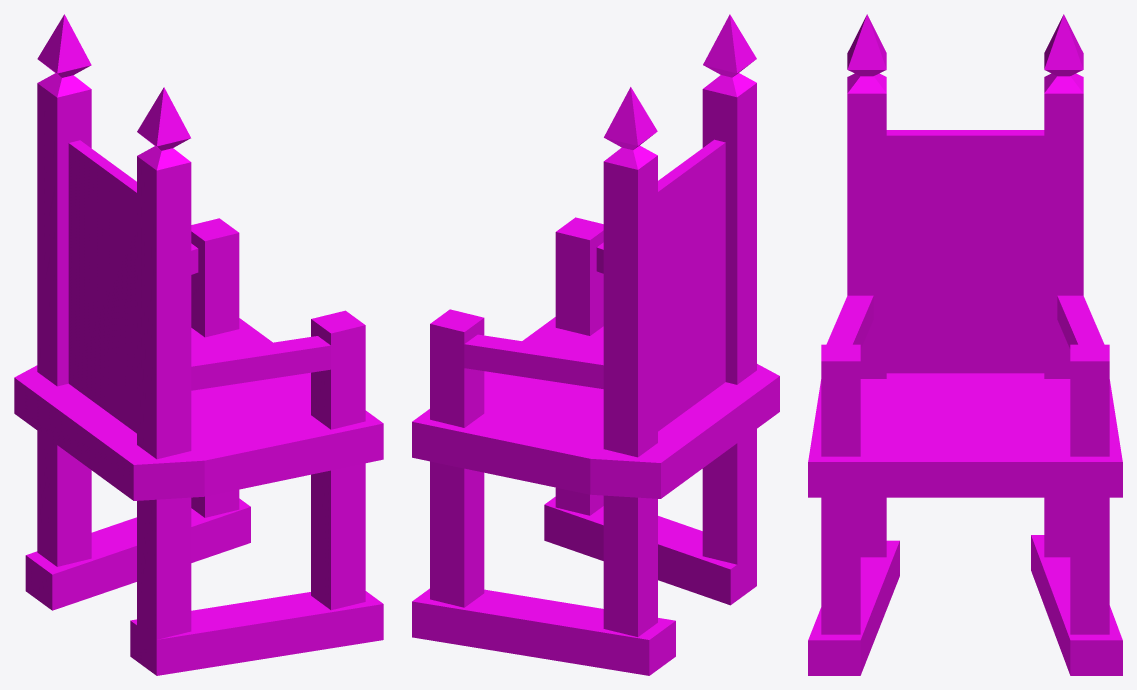
The model's file is throne.obj.
The picture shows the model from 3 angles, left to right: view 1: azimuth 30°, elevation 25°; view 2: azimuth 150°, elevation 25°; view 3: azimuth 270°, elevation 25°; orthographic projection.
Parts seen in each view (by area): view 1: throne_back; view 2: throne_back; view 3: throne_back.
Part boxes in pixels (left/top/right/bottom): throne_back: left=14, top=14, right=383, bottom=675; throne_back: left=412, top=14, right=779, bottom=675; throne_back: left=808, top=14, right=1122, bottom=675.
Bounding box in the file's own units: 0.8 × 1.92 × 0.96.
